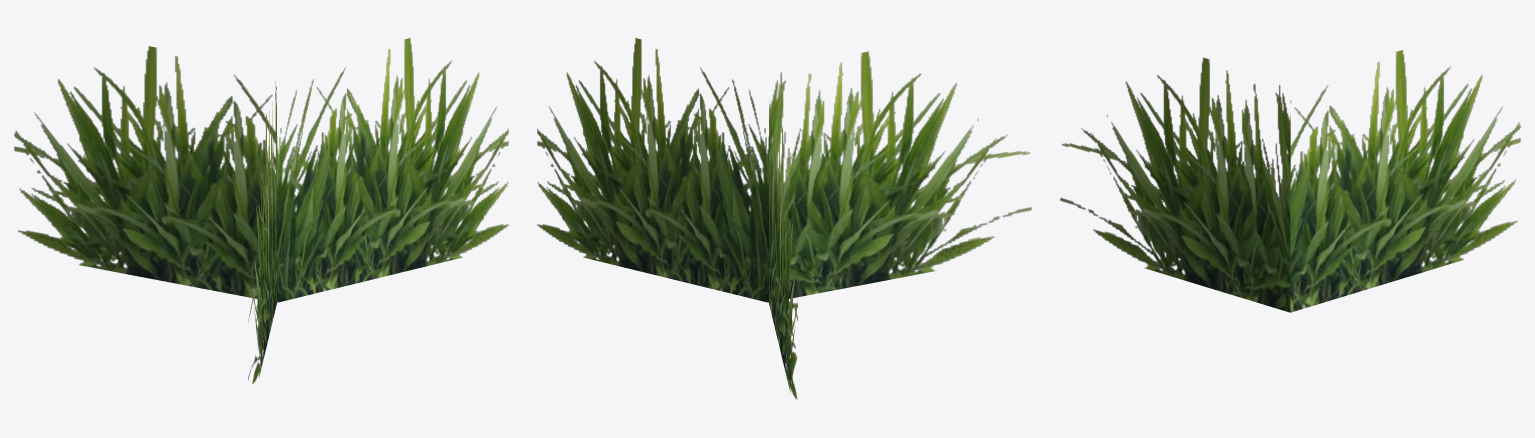
Rendered from grass.glb.
3 renders of one model, left to right at view 1: azimuth 30°, elevation 25°; view 2: azimuth 150°, elevation 25°; view 3: azimuth 270°, elevation 25°, orthographic.
Parts seen in each view (by area): view 1: Plane; view 2: Plane; view 3: Plane.
Part boxes in pixels (x1,y1,x2,y2): Plane: [14, 38, 508, 384]; Plane: [537, 38, 1031, 399]; Plane: [1060, 50, 1520, 312].
Size of the model in its own units: 1.86 by 1.1 by 2.
Materials: 1 (1 with a texture image).
